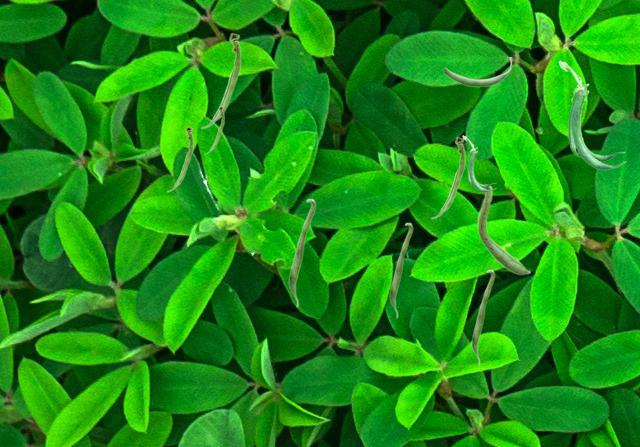french_bean: (558, 60, 625, 169), (477, 183, 530, 274), (200, 32, 240, 128), (288, 198, 315, 307), (430, 136, 464, 218), (389, 222, 412, 318), (471, 269, 494, 365), (443, 57, 511, 86), (462, 135, 495, 191), (166, 126, 192, 191), (204, 106, 223, 153)
